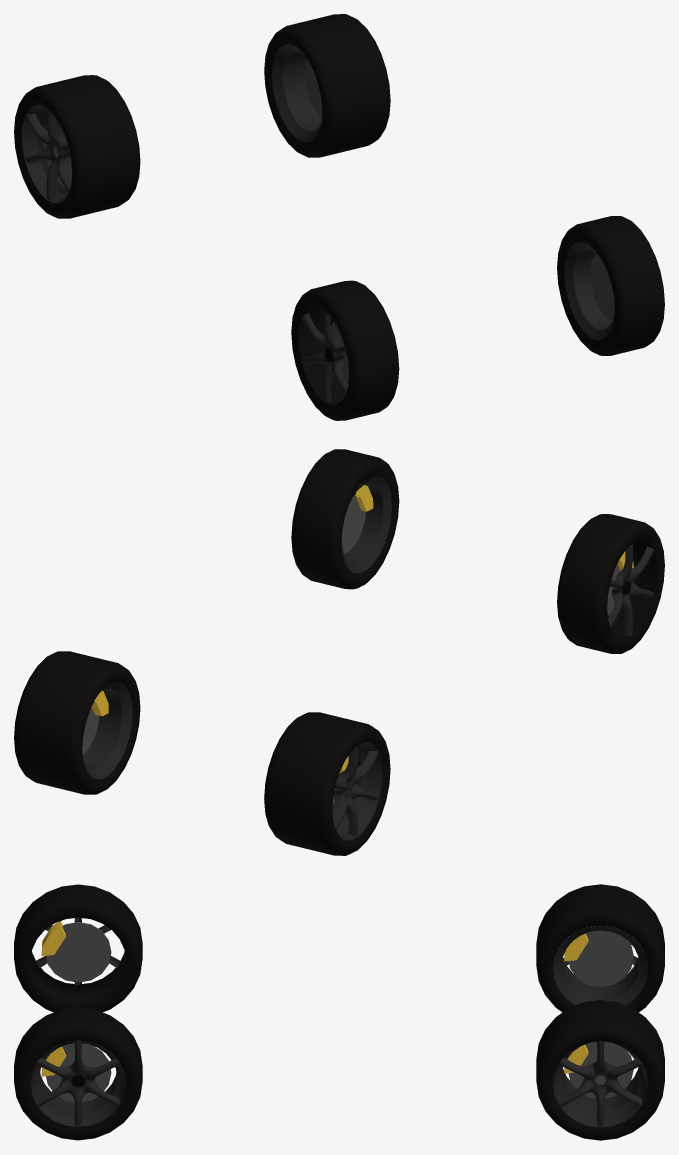
The model's file is r34wheels.FBX.
3 renders of one model, top to bottom at view 1: azimuth 30°, elevation 25°; view 2: azimuth 150°, elevation 25°; view 3: azimuth 270°, elevation 25°, orthographic. The views are drawn at different scales.
Visible parts, largest first — view 1: t05, t04, t03, t01, Entity190, Entity13, Entity04, Entity01, Entity08, Entity113; view 2: t04, t05, t03, t01, Entity190, Entity13, Entity04, Entity01, Entity08, Entity113; view 3: t03, t05, t04, t01, Entity01, Entity125, Entity190, Entity13, Entity131, Entity189, Entity16, Entity113 (+3 smaller).
Boxes of the visible parts, <box> form: t05: <box>264,14,390,157</box>; t04: <box>14,75,140,218</box>; t03: <box>291,280,399,420</box>; t01: <box>557,216,664,355</box>; Entity190: <box>272,44,321,142</box>; Entity13: <box>564,242,614,340</box>; Entity04: <box>26,109,71,199</box>; Entity01: <box>22,105,72,203</box>; Entity08: <box>302,310,348,402</box>; Entity113: <box>590,255,614,319</box>; t04: <box>264,712,390,855</box>; t05: <box>14,651,140,794</box>; t03: <box>557,514,664,653</box>; t01: <box>291,449,399,589</box>; Entity190: <box>82,681,132,779</box>; Entity13: <box>341,475,391,573</box>; Entity04: <box>333,746,378,836</box>; Entity01: <box>332,742,382,840</box>; Entity08: <box>608,543,653,635</box>; Entity113: <box>341,493,365,553</box>; t03: <box>14,884,142,1012</box>; t05: <box>536,1000,664,1140</box>; t04: <box>536,884,664,1012</box>; t01: <box>14,1007,142,1140</box>; Entity01: <box>553,925,648,1005</box>; Entity125: <box>46,922,111,982</box>; Entity190: <box>553,1041,648,1127</box>; Entity13: <box>30,1041,125,1126</box>; Entity131: <box>568,930,633,986</box>; Entity189: <box>558,1041,642,1126</box>; Entity16: <box>36,1040,120,1126</box>; Entity113: <box>46,1043,111,1102</box>.
Size of the model in its own units: 3884 by 1448 by 7329.
